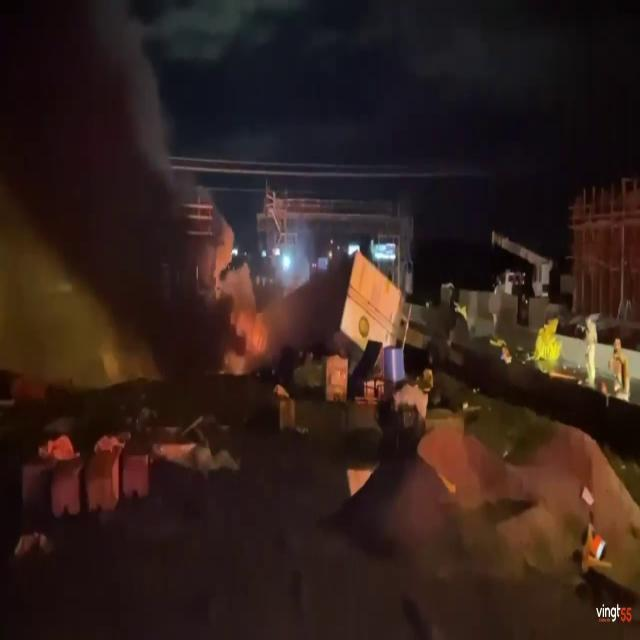Smoke: (0, 0, 212, 378)
